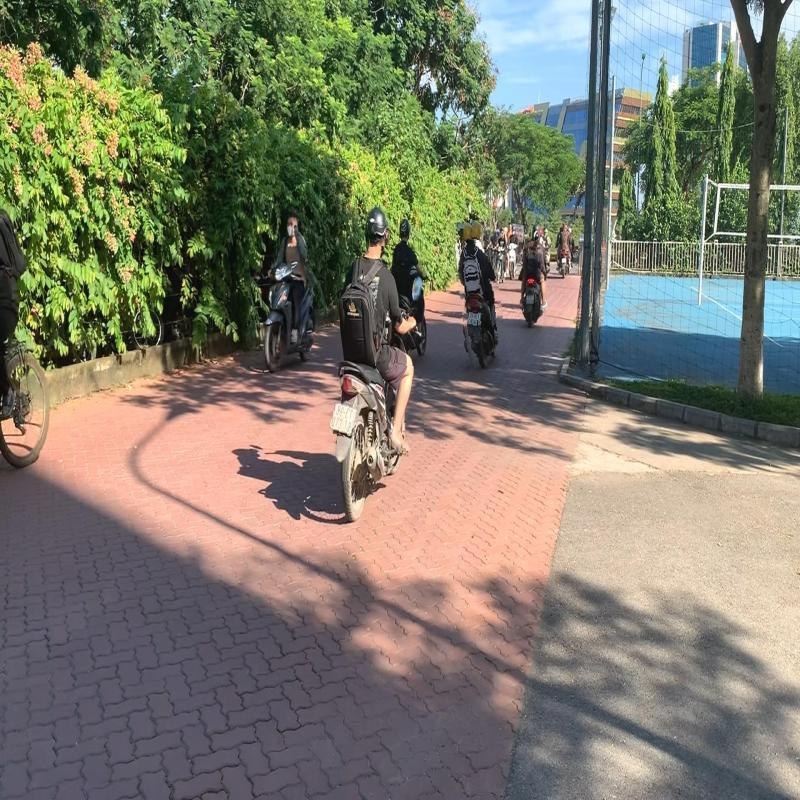helmet: (366, 206, 392, 247), (471, 222, 484, 240)
licenseplate: (330, 403, 358, 436), (467, 312, 478, 327)
motorcyclist: (327, 204, 424, 528), (454, 219, 506, 371)
